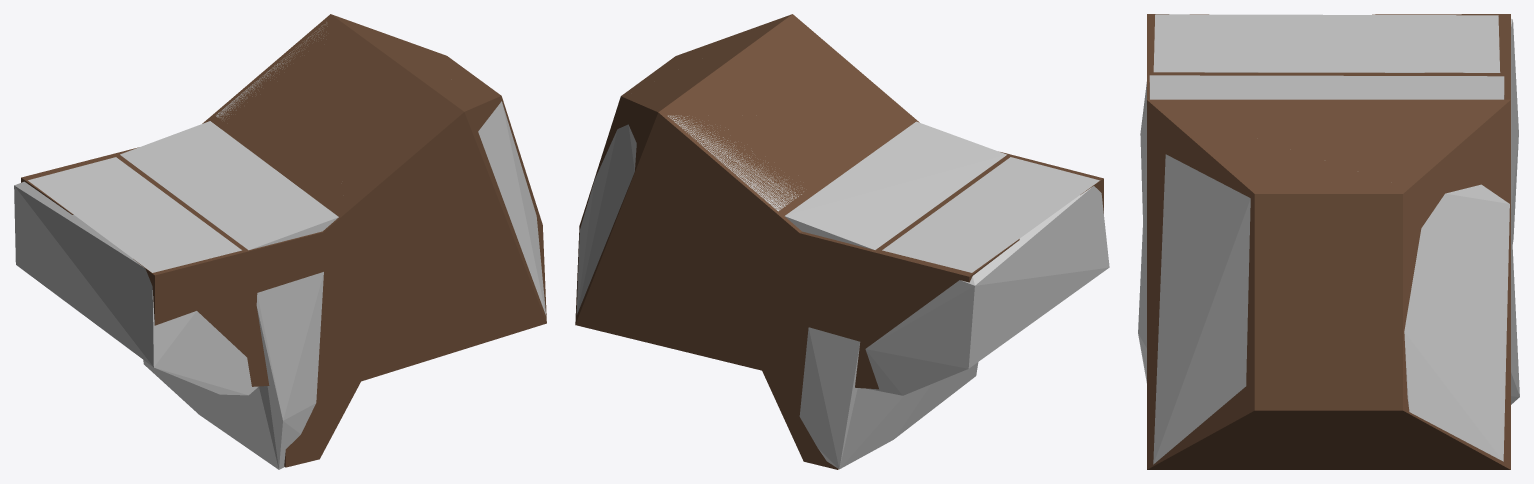
Rendered from SM_Bld_Roof_Trim_End_01.fbx.
3 views of the same model, side by side, from view 1: azimuth 30°, elevation 25°; view 2: azimuth 150°, elevation 25°; view 3: azimuth 270°, elevation 25° (orthographic). The views are drawn at different scales.
Visible parts, largest first — view 1: SM_Bld_Roof_Trim_End_01, SM_Bld_Roof_Trim_End_01_ConvexHulls; view 2: SM_Bld_Roof_Trim_End_01, SM_Bld_Roof_Trim_End_01_ConvexHulls; view 3: SM_Bld_Roof_Trim_End_01, SM_Bld_Roof_Trim_End_01_ConvexHulls.
Boxes of the visible parts, x1,y1,x2,y2 form: SM_Bld_Roof_Trim_End_01: (21,14,546,467); SM_Bld_Roof_Trim_End_01_ConvexHulls: (14,22,546,469); SM_Bld_Roof_Trim_End_01: (575,14,1103,469); SM_Bld_Roof_Trim_End_01_ConvexHulls: (576,115,1109,469); SM_Bld_Roof_Trim_End_01: (1147,14,1510,469); SM_Bld_Roof_Trim_End_01_ConvexHulls: (1138,14,1519,464).
Size of the model in its own units: 84.55 by 47.37 by 59.35.
Materials: 2 (1 with a texture image).
